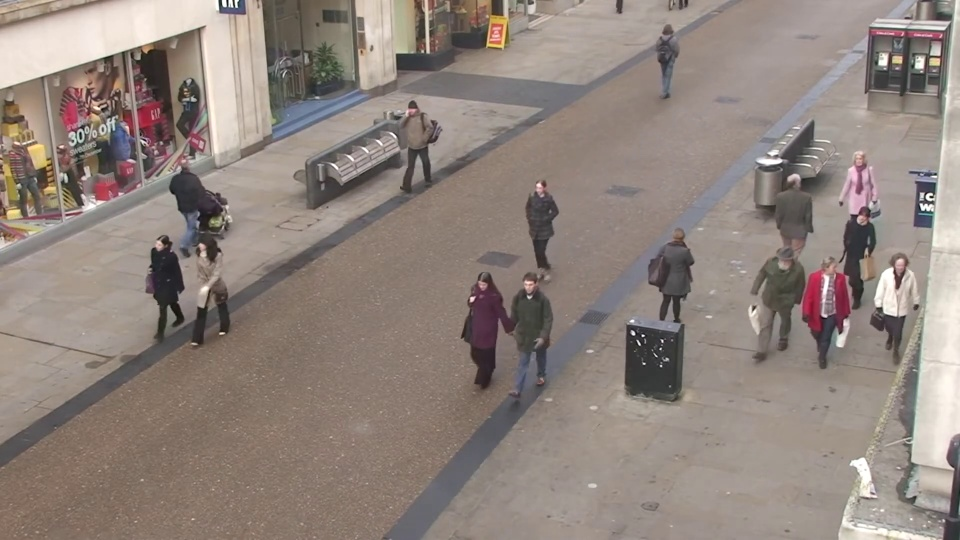pedestrian: (866, 250, 921, 383), (798, 253, 848, 386), (136, 230, 188, 353), (750, 252, 798, 385), (456, 271, 502, 409), (176, 233, 225, 357), (500, 274, 544, 412), (832, 205, 880, 326), (659, 219, 701, 342), (834, 149, 877, 256), (774, 162, 814, 271), (518, 181, 555, 295), (174, 148, 215, 250), (390, 100, 422, 191), (657, 21, 681, 91)
